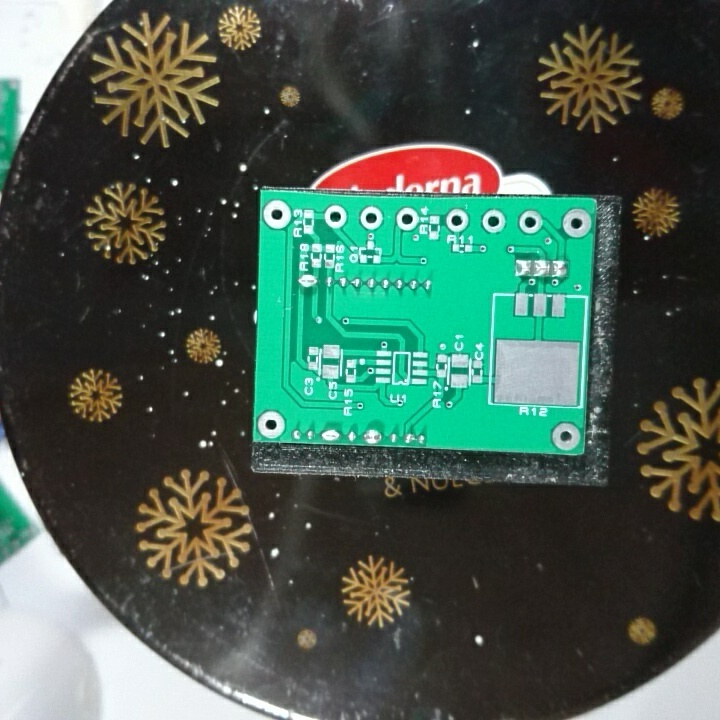F: (255, 409, 289, 442), (561, 206, 593, 241), (262, 197, 291, 233), (549, 419, 581, 451), (479, 206, 506, 236), (444, 206, 471, 235), (516, 209, 545, 235), (359, 203, 384, 232), (323, 202, 348, 231), (395, 206, 420, 234)
P: (360, 426, 383, 446), (295, 272, 319, 291), (319, 426, 343, 444)
